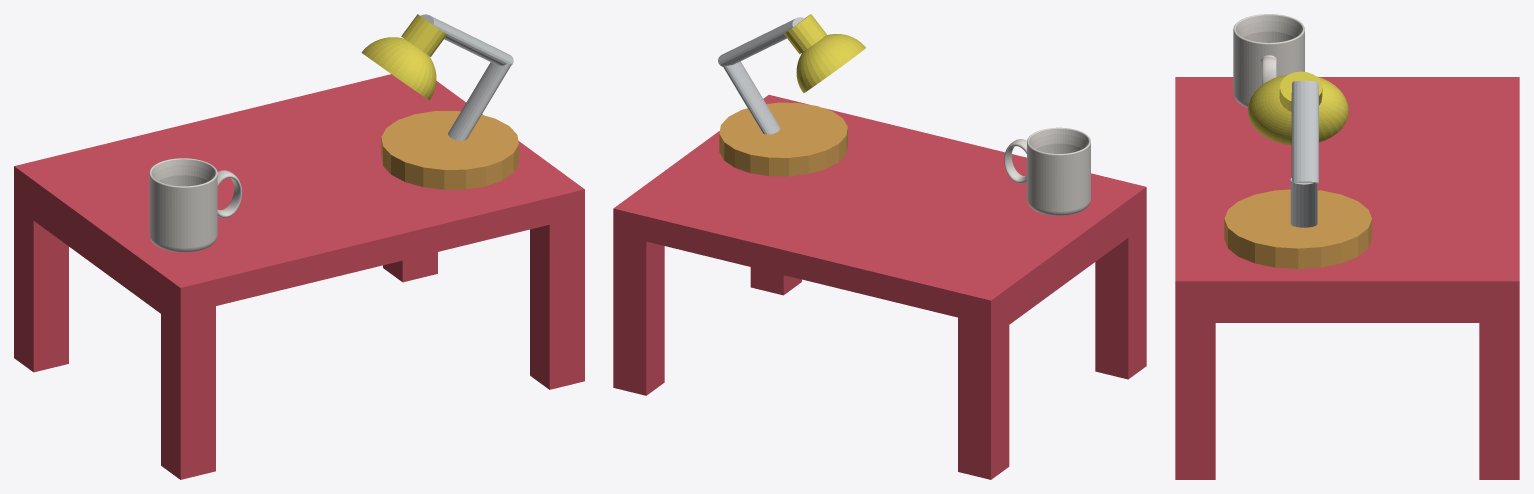
File: table.glb
3 views of the same model, side by side, from view 1: azimuth 30°, elevation 25°; view 2: azimuth 150°, elevation 25°; view 3: azimuth 270°, elevation 25° (orthographic). The views are drawn at different scales.
Visible parts, largest first — view 1: Mesh_Mesh_head_geo.001_lambert2SG.001; view 2: Mesh_Mesh_head_geo.001_lambert2SG.001; view 3: Mesh_Mesh_head_geo.001_lambert2SG.001.
Boxes of the visible parts, <box> form: Mesh_Mesh_head_geo.001_lambert2SG.001: <box>14,14,584,479</box>; Mesh_Mesh_head_geo.001_lambert2SG.001: <box>613,14,1146,479</box>; Mesh_Mesh_head_geo.001_lambert2SG.001: <box>1175,14,1519,479</box>.
Bounding box in the file's own units: 108 × 88 × 77.
